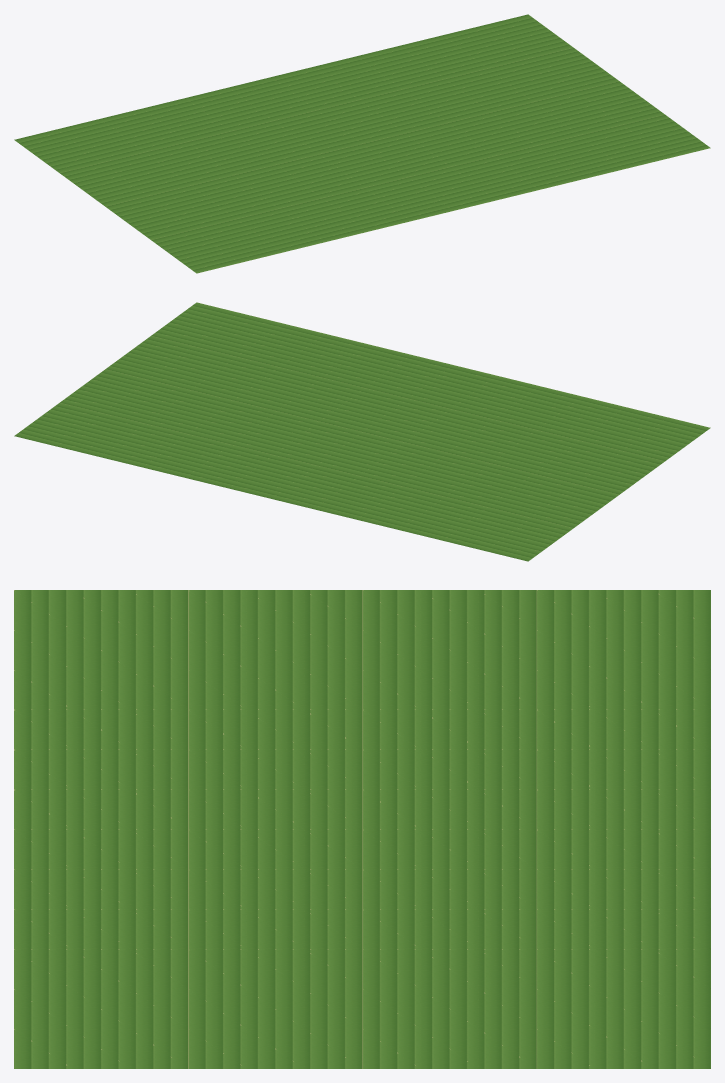
File: ground_base.glb
3 renders of one model, top to bottom at view 1: azimuth 30°, elevation 25°; view 2: azimuth 150°, elevation 25°; view 3: azimuth 270°, elevation 25°, orthographic. The views are drawn at different scales.
Parts seen in each view (by area): view 1: grass_base; view 2: grass_base; view 3: grass_base.
Boxes of the visible parts, x1,y1,x2,y2 form: grass_base: (14,14,710,273); grass_base: (14,302,710,561); grass_base: (14,590,710,1068).
Bounding box in the file's own units: 3120 × 0 × 1920.
1 material, 1 textured.
